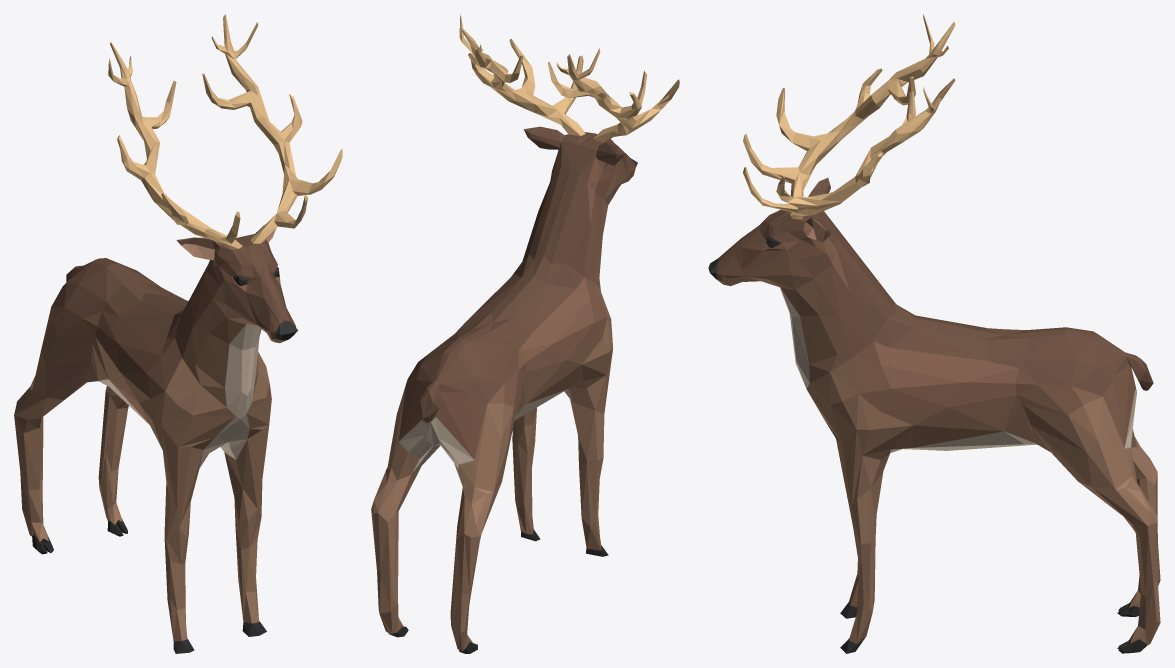
Rendered from Stag.obj.
3 views of the same model, side by side, from view 1: azimuth 30°, elevation 25°; view 2: azimuth 150°, elevation 25°; view 3: azimuth 270°, elevation 25° (orthographic). The views are drawn at different scales.
Visible parts, largest first — view 1: deer_m_Plane.012; view 2: deer_m_Plane.012; view 3: deer_m_Plane.012.
Part boxes in pixels (left/top/right/bottom): deer_m_Plane.012: left=14, top=14, right=342, bottom=653; deer_m_Plane.012: left=371, top=14, right=679, bottom=653; deer_m_Plane.012: left=708, top=14, right=1160, bottom=653.
Size of the model in its own units: 1.72 by 5.25 by 3.68.
Materials: 1 (1 with a texture image).
